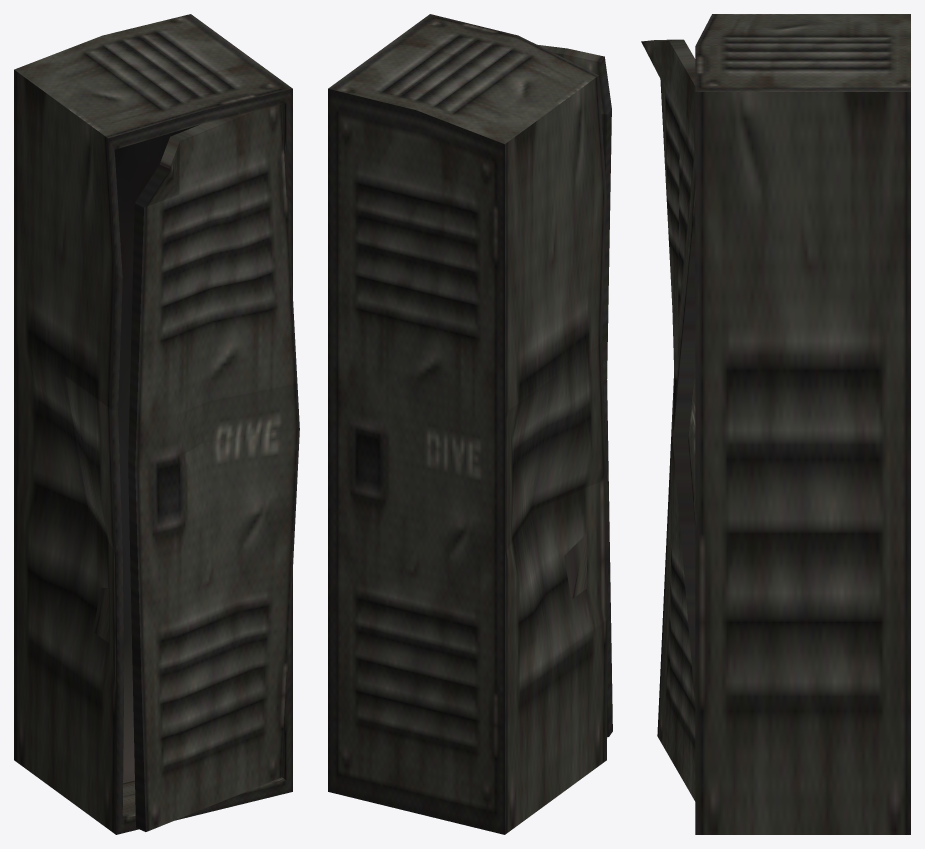
The model's file is locker_1_broken.glb.
3 views of the same model, side by side, from view 1: azimuth 30°, elevation 25°; view 2: azimuth 150°, elevation 25°; view 3: azimuth 270°, elevation 25° (orthographic). The views are drawn at different scales.
Visible parts, largest first — view 1: Cube; view 2: Cube; view 3: Cube.
Boxes of the visible parts, x1=… form: Cube: x1=14, y1=14, x2=299, y2=834; Cube: x1=328, y1=14, x2=612, y2=834; Cube: x1=641, y1=14, x2=910, y2=834.
Bounding box in the file's own units: 0.5 × 1.9 × 0.6254.
1 material, 1 textured.
